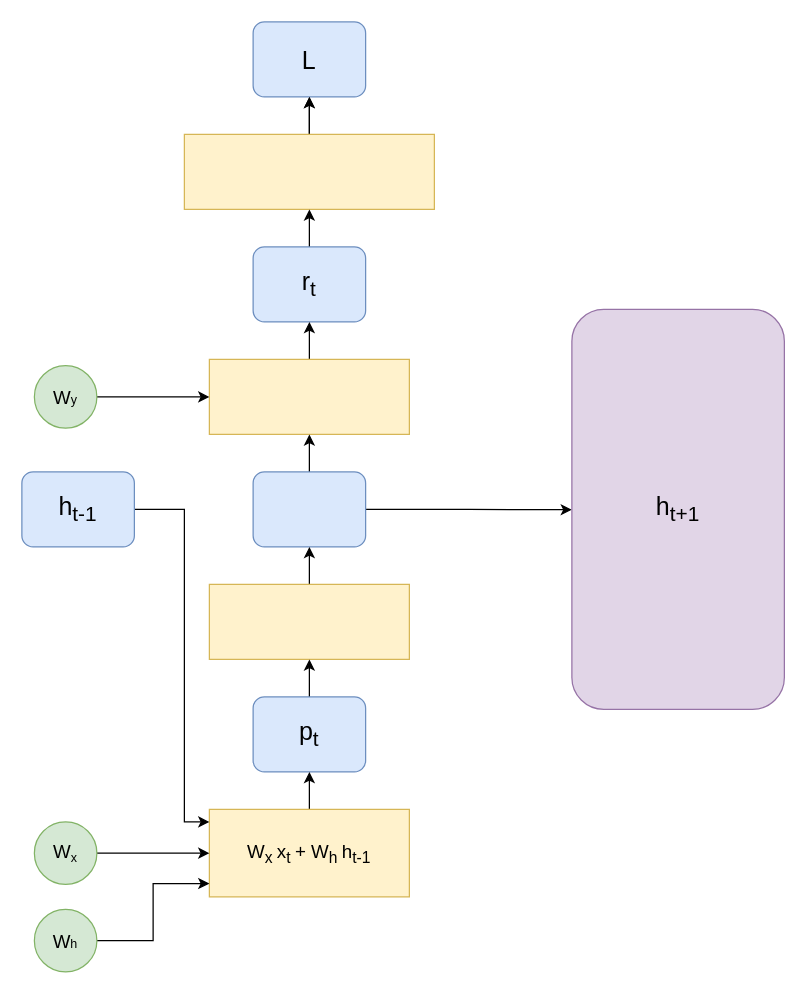
This 806x994 diagram has some shape labels left out. Each missing label, with the centre of its shape:
"cross_ent(softmax(r t ))" belongs at (308,171).
"h t" belongs at (309,509).
"tanh(p t )" belongs at (308,621).
"W y h t" belongs at (308,396).
